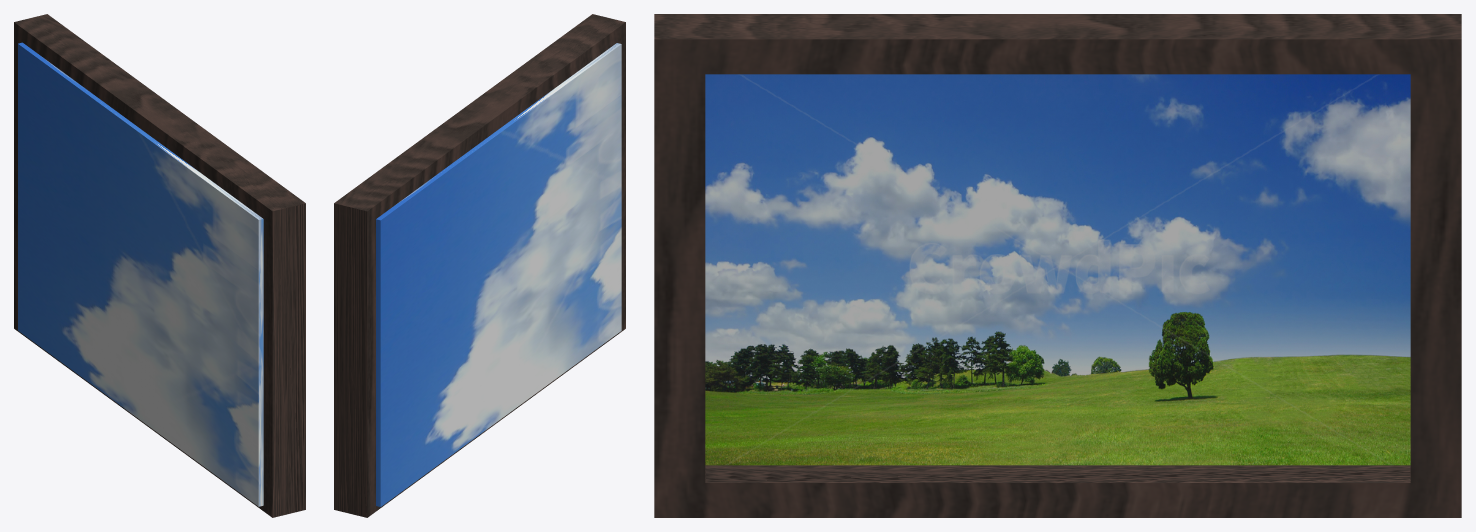
3 views of the same model, side by side, from view 1: azimuth 30°, elevation 25°; view 2: azimuth 150°, elevation 25°; view 3: azimuth 270°, elevation 25° (orthographic). The views are drawn at different scales.
Visible parts, largest first — view 1: 액자4; view 2: 액자4; view 3: 액자4.
Part boxes in pixels (<box>): 액자4: <box>14,14,305,517</box>; 액자4: <box>334,14,625,517</box>; 액자4: <box>654,14,1461,517</box>.
Bounding box in the file's own units: 20.92 × 161 × 246.
2 materials, 2 textured.
